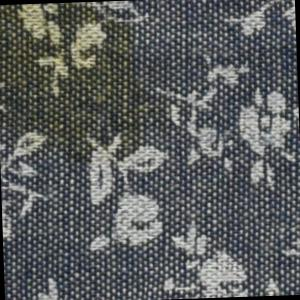Oil Stain: (1, 1, 149, 175)
